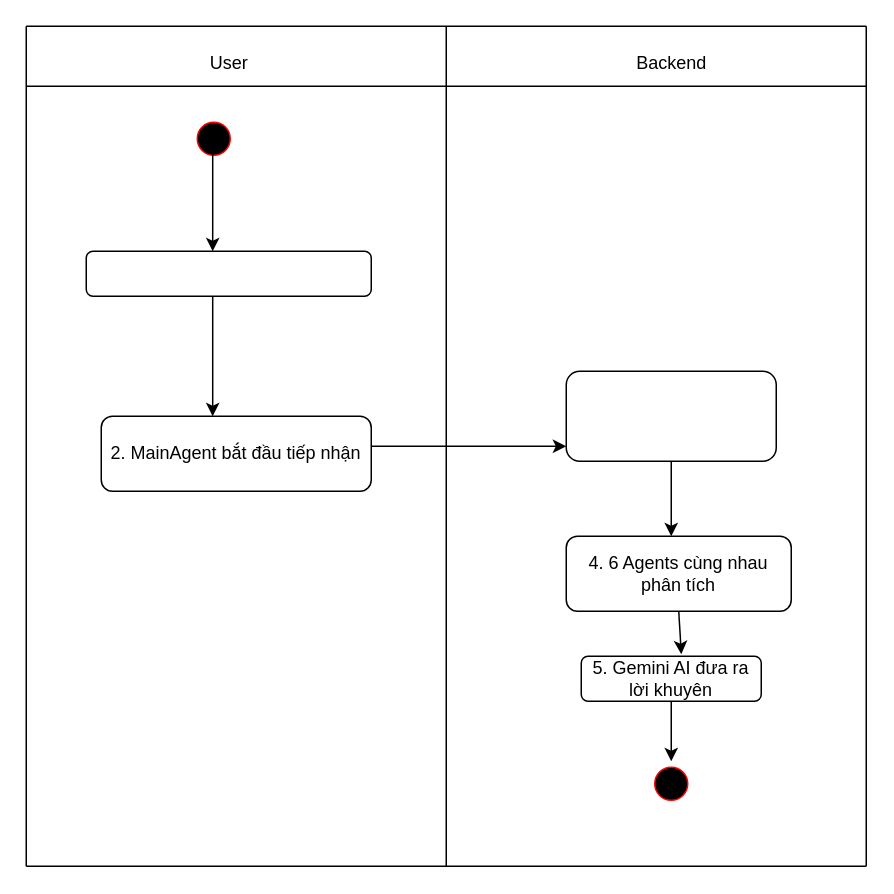
The diagram is 894 pixels wide and 894 high, and some of its shapes have lost their labels. Here are the shapes that lost their labels. From the top down, the centre of each, then its label:
(228,273): 1. Truy cập hệ thống gửi đi yêu cầu
(670,415): 3.Xử lý quyết định
